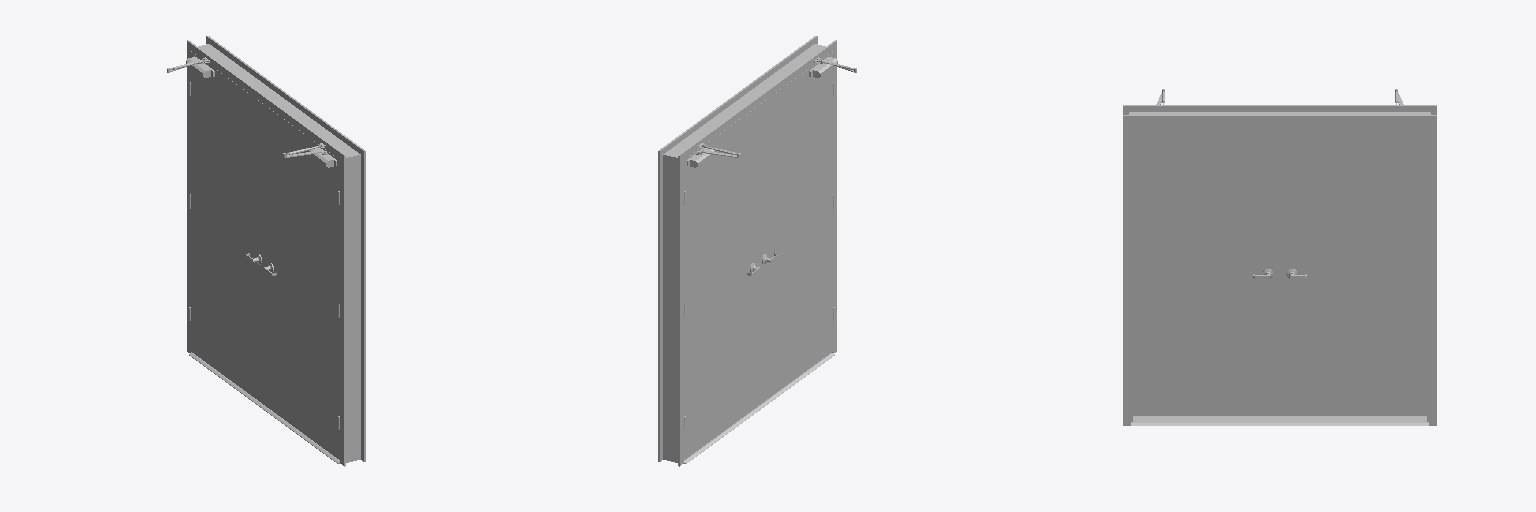
File: double_door.obj
3 renders of one model, left to right at view 1: azimuth 30°, elevation 25°; view 2: azimuth 150°, elevation 25°; view 3: azimuth 270°, elevation 25°, orthographic.
Visible parts, largest first — view 1: door_A_014_Cylinder.005, door_B_014_Cylinder.032, frame_014_Plane.018, floor_plate_double_014_Cube.031; view 2: door_B_014_Cylinder.032, door_A_014_Cylinder.005, frame_014_Plane.018, floor_plate_double_014_Cube.031; view 3: door_B_014_Cylinder.032, door_A_014_Cylinder.005, frame_014_Plane.018, floor_plate_double_014_Cube.031.
Boxes of the visible parts, box(x1,y1,x2,y2) form: door_A_014_Cylinder.005: box(189, 51, 265, 405); door_B_014_Cylinder.032: box(266, 106, 339, 459); frame_014_Plane.018: box(187, 36, 365, 466); floor_plate_double_014_Cube.031: box(189, 353, 339, 463); door_B_014_Cylinder.032: box(758, 51, 834, 405); door_A_014_Cylinder.005: box(684, 106, 757, 459); frame_014_Plane.018: box(658, 36, 836, 466); floor_plate_double_014_Cube.031: box(684, 353, 834, 463); door_B_014_Cylinder.032: box(1133, 123, 1279, 415); door_A_014_Cylinder.005: box(1280, 123, 1426, 415); frame_014_Plane.018: box(1123, 105, 1436, 425); floor_plate_double_014_Cube.031: box(1131, 416, 1428, 425).
Bounding box in the file's own units: 0.4361 × 2.1 × 1.93.